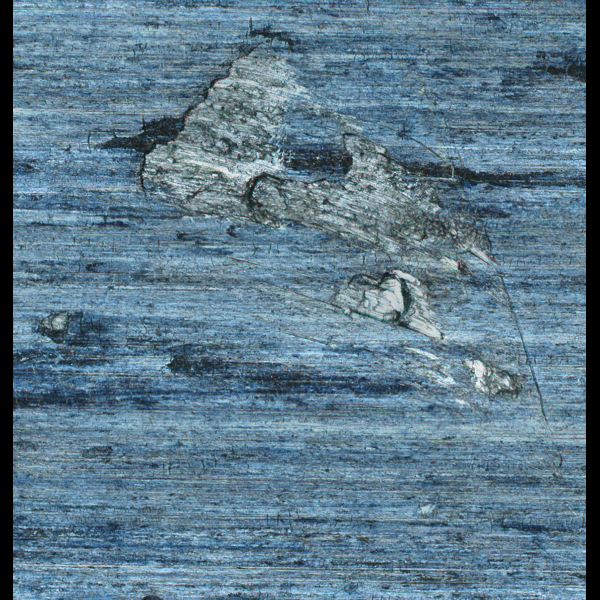d: (99, 22, 525, 414), (33, 307, 97, 350)
